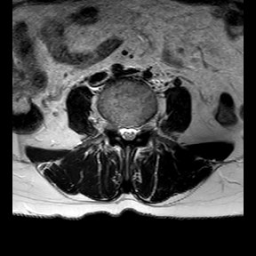CCS_severe_stenosis: (125, 117, 131, 149)
LFS_normal: (138, 114, 147, 139)
LLS_normal: (131, 117, 138, 144)
RFS_normal: (109, 112, 117, 137)
RLS_normal: (117, 117, 125, 144)
